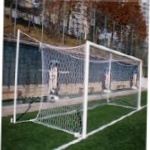goals: (34, 37, 144, 138)
